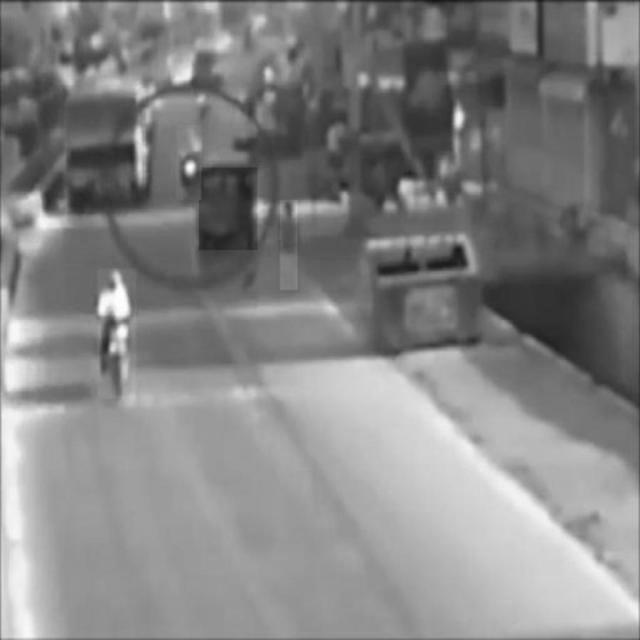person: (279, 201, 297, 291)
vehicle: (68, 95, 145, 207), (97, 269, 135, 399), (199, 168, 257, 251), (176, 126, 201, 200)
